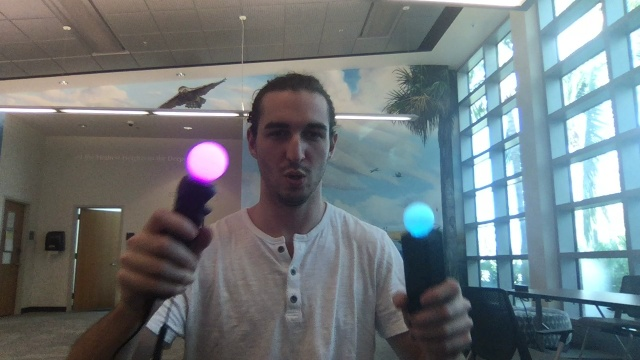wand: (188, 141, 228, 182), (404, 203, 434, 234)
